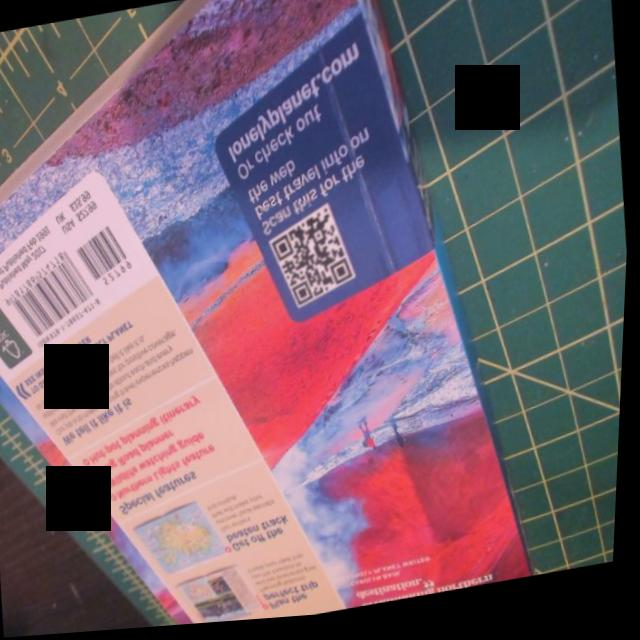QR_CODE: (260, 195, 372, 335)
